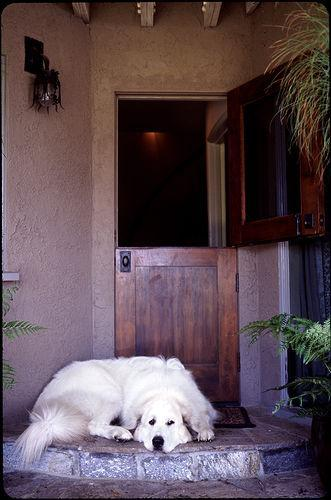Great_Pyrenees: (0, 357, 223, 466)
